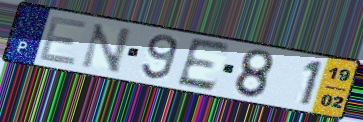1: (297, 60, 326, 108)
8: (233, 48, 276, 100)
9: (140, 34, 180, 81)
E: (174, 36, 233, 94), (36, 14, 90, 67)
N: (78, 22, 135, 76)
